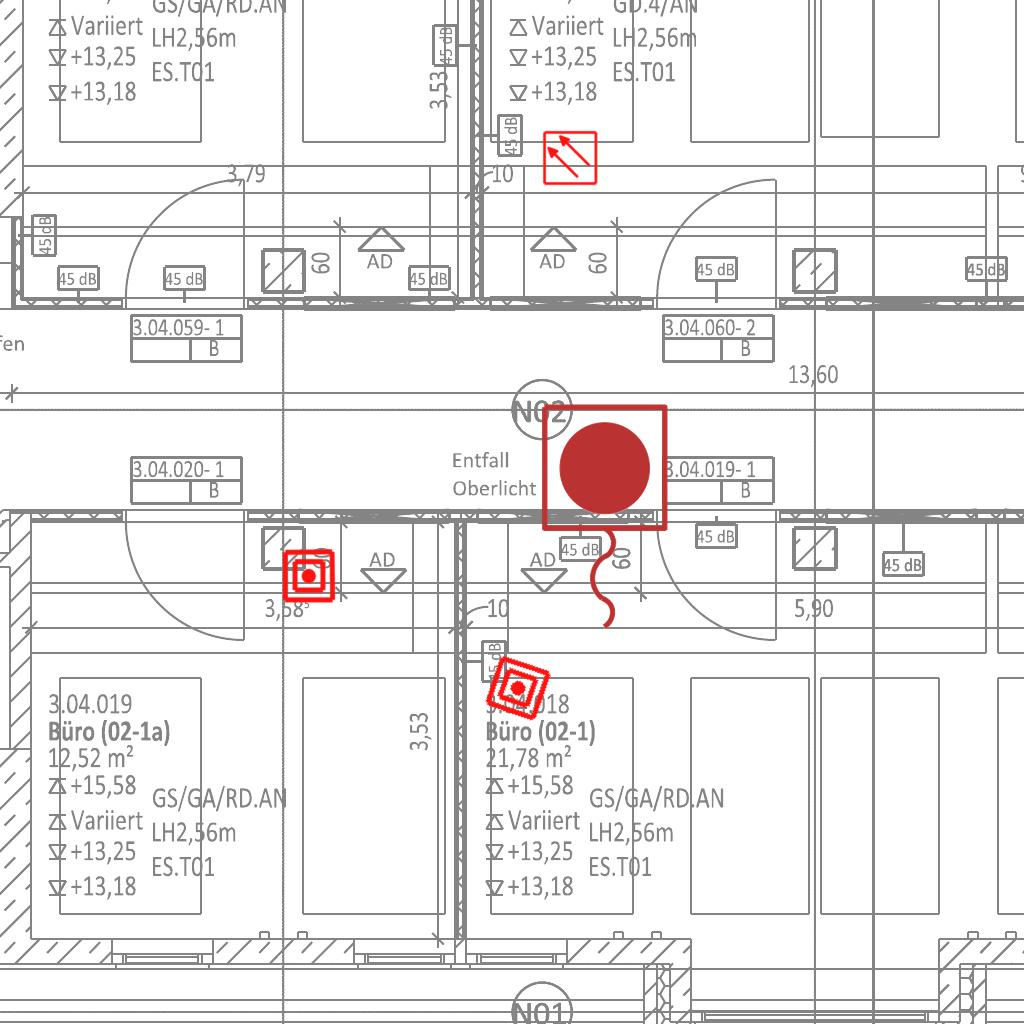NAM-Nichtautomatischer_Melder: (482, 652, 554, 724), (281, 548, 337, 604)
RMO_Rauchmelder_optischer: (542, 130, 598, 186)
Zugtaster: (531, 396, 675, 640)
